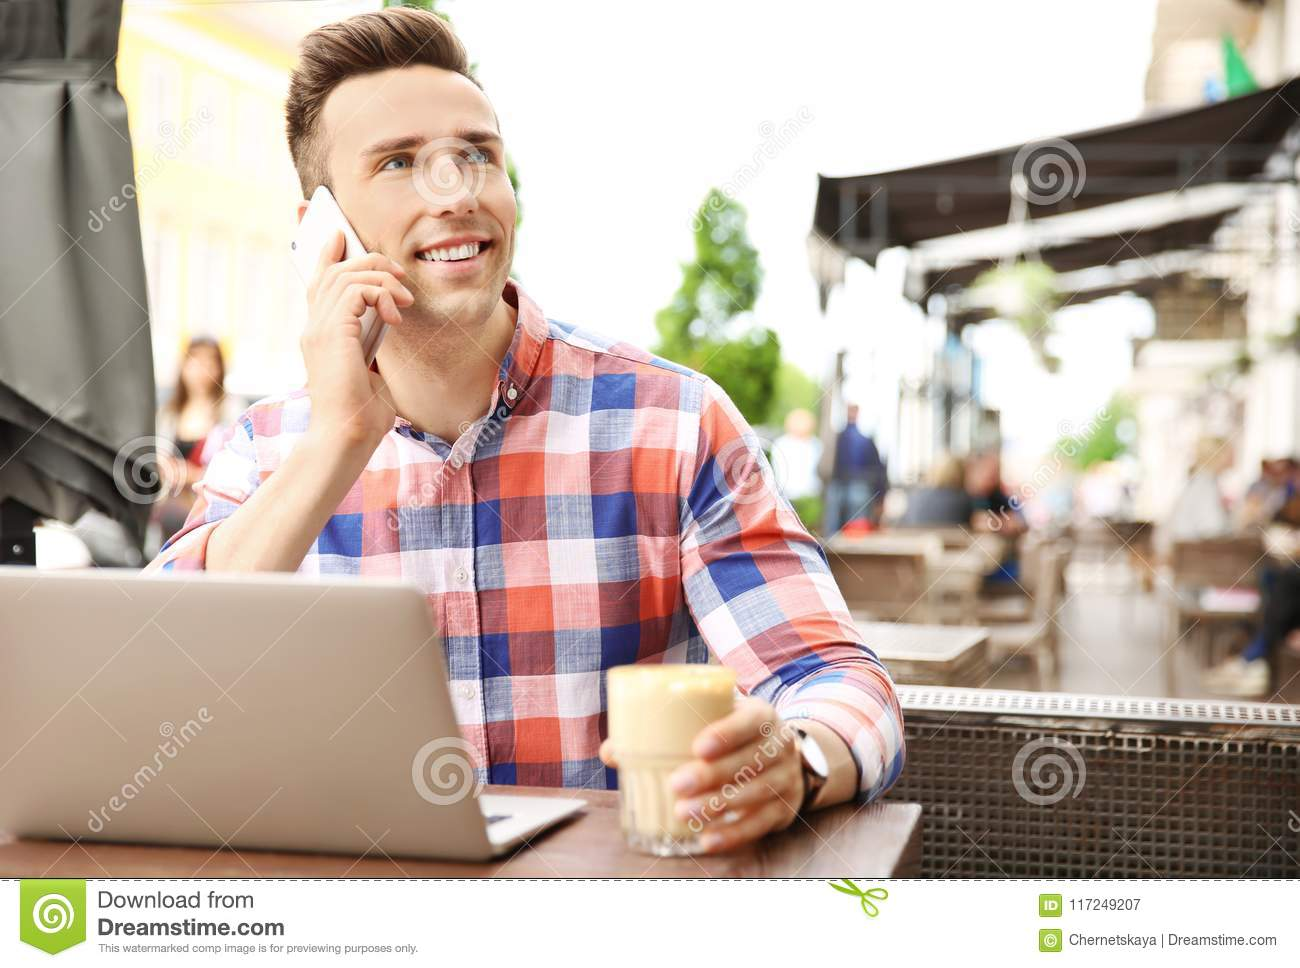phone: (291, 184, 396, 380)
talk: (287, 107, 520, 460)
